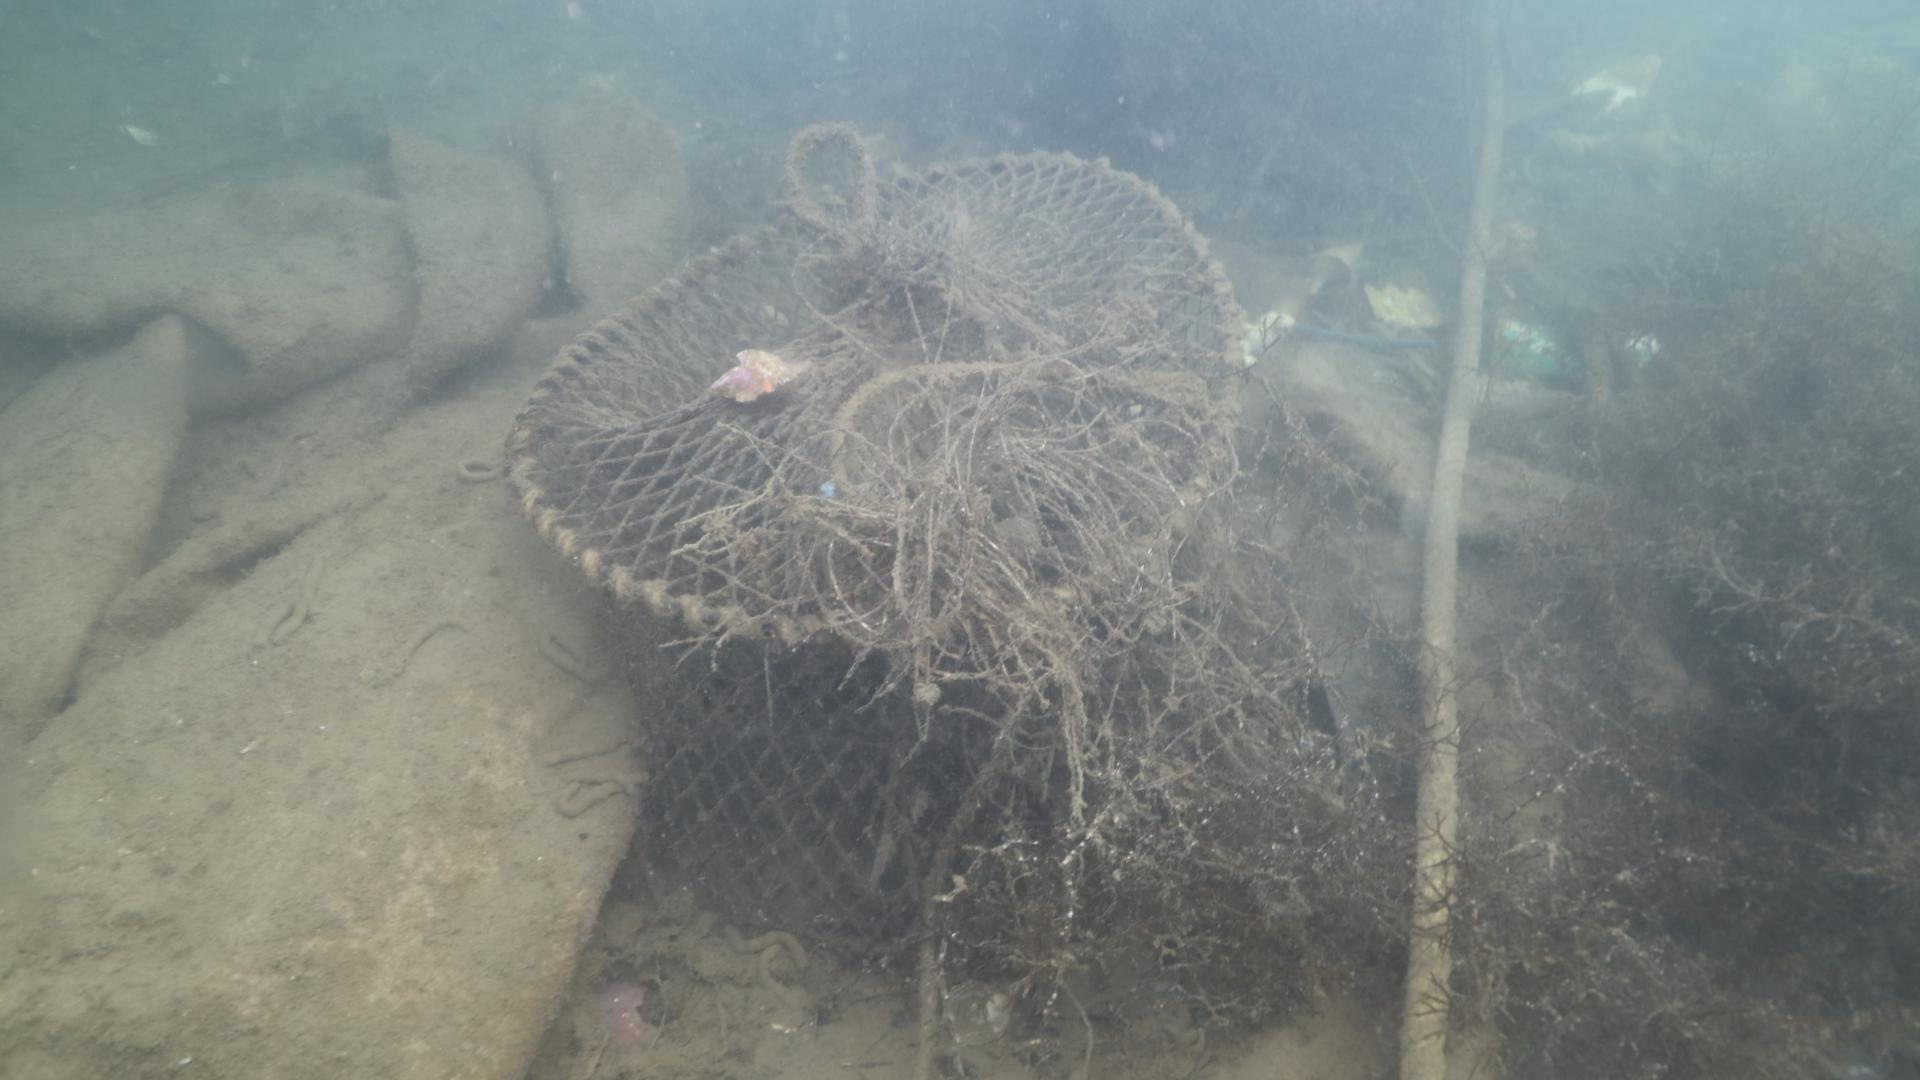circular fish trap: (497, 148, 1253, 957)
rope: (1400, 26, 1509, 1080)
